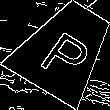P_NE: (33, 18, 96, 80)
